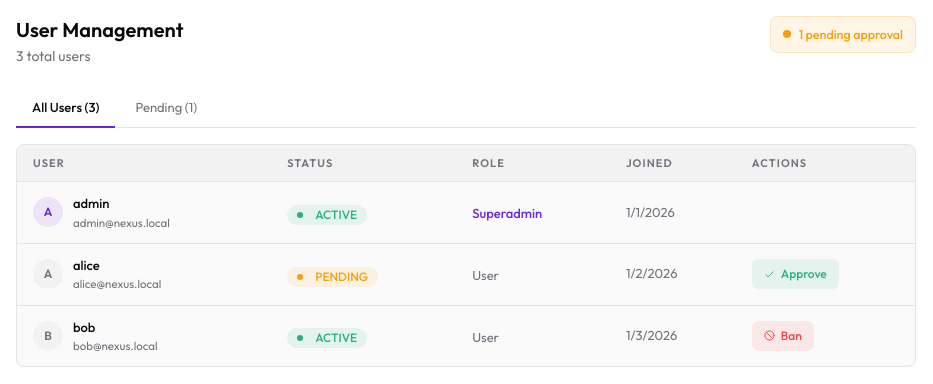
Test: AdminUsersPage › Ban button changes ACTIVE user to BANNED
Expected: the text "bob" is shown, [73,318,95,334]
Step 1. Click the button "Ban" → {"x": 783, "y": 336}, box [752,321,814,351]
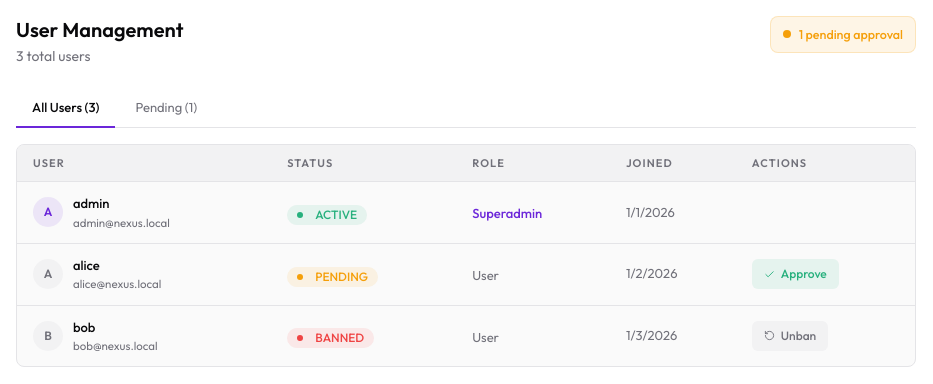
Result: the button "Unban" is shown at [752,321,828,351]
